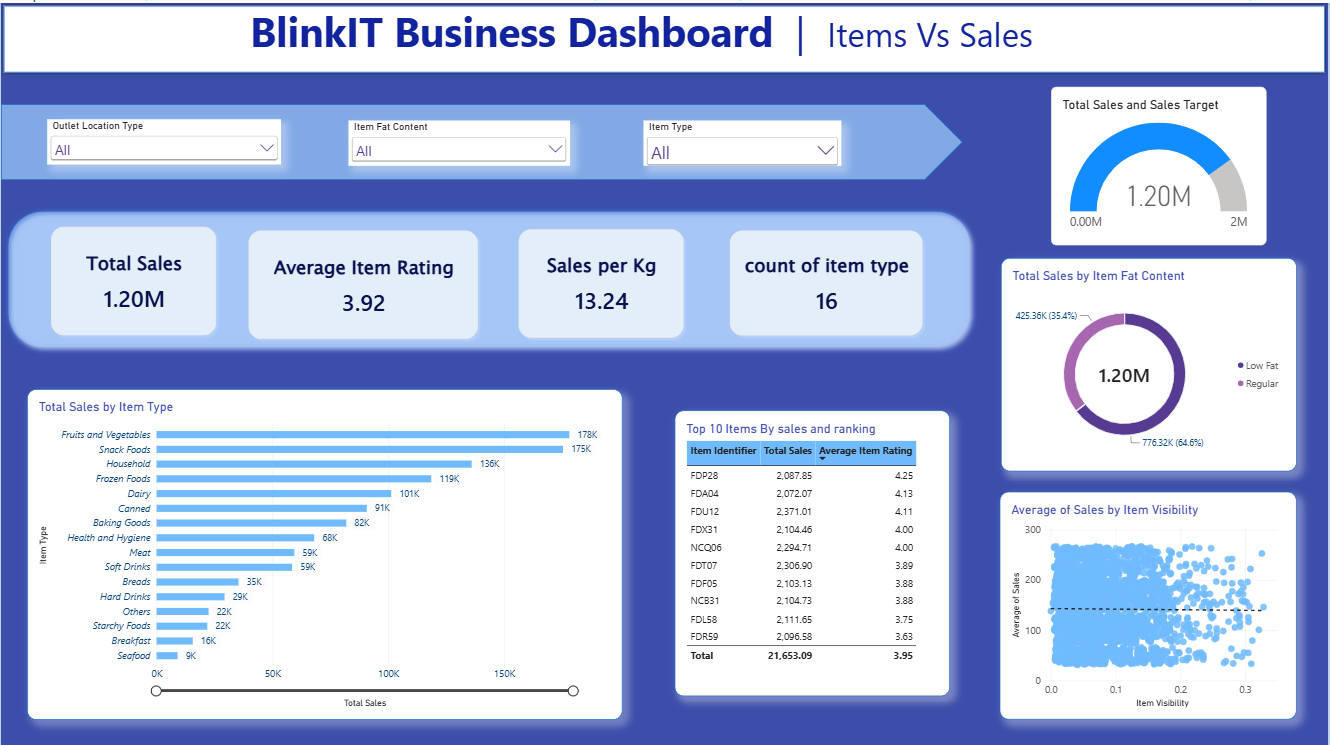

The dashboard page shown, as its layout file describes it:
{"tool":"powerbi","page":{"name":"Items vs total sales","canvas":[1920,1080],"ordinal":0},"visuals":[{"type":"shape","box":[0,147.1,1392.3,109.6],"z":0},{"type":"shape","box":[0,0,1920.5,104.5],"z":1000},{"type":"shape","box":[0,292.2,1413.7,217.6],"z":2000},{"type":"cardVisual","fields":{"Data":["Measure.Total Sales"]},"box":[66.7,317.6,250,168.2],"z":3000},{"type":"cardVisual","fields":{"Data":["Measure.Sales per Kg"]},"box":[743.1,321.6,250,168.2],"z":4000},{"type":"cardVisual","fields":{"Data":["Measure.Average Item Ranking"]},"box":[352.9,323.5,343.2,168.2],"z":5000},{"type":"clusteredBarChart","fields":{"Category":["Items.Item Type"],"Y":["Measure.Total Sales"]},"box":[38.6,559.1,861.9,478.6],"z":6000},{"type":"donutChart","fields":{"Category":["Items Content.Item Fat Content"],"Y":["Measure.Total Sales"]},"box":[1447.1,368.6,428.2,309],"z":7000},{"type":"scatterChart","fields":{"X":["BlinkIT Grocery Data.Item Visibility"],"Y":["Avg(BlinkIT Grocery Data.Sales)"]},"box":[1445.1,707.8,429.4,329.4],"z":8000},{"type":"tableEx","title":"Top 10 Items By sales and ranking","fields":{"Values":["BlinkIT Grocery Data.Item Identifier","Measure.Total Sales","Measure.Average Item Ranking"]},"box":[974.5,590.2,398,413.7],"z":9000},{"type":"slicer","fields":{"Values":["Outlet Location.Outlet Location Type"]},"box":[66.7,168.6,338.6,65.9],"z":10000},{"type":"slicer","fields":{"Values":["Items.Item Type"]},"box":[929.4,170.6,286.4,65.9],"z":11000},{"type":"slicer","fields":{"Values":["Items Content.Item Fat Content"]},"box":[503.9,170.6,320.5,65.9],"z":12000},{"type":"cardVisual","fields":{"Data":["Measure.count of item type"]},"box":[1049,323.5,290.9,163.6],"z":13000},{"type":"gauge","fields":{"MaxValue":["Measure.Sales Target"],"Y":["Measure.Total Sales"]},"box":[1519.6,121.6,311.8,229.4],"z":14000},{"type":"textbox","box":[0,0,1854.5,88.6],"z":15000}]}

Visuals, with their boxes in screenshot pixels (x1, y1, x2, y2), scaled from the page's 1920x1080 canvas onto the 1330x745 screenshot:
shape: 0:101:964:177
shape: 0:0:1329:72
shape: 0:202:979:352
cardVisual - Measure.Total Sales: 46:219:219:335
cardVisual - Measure.Sales per Kg: 515:222:688:338
cardVisual - Measure.Average Item Ranking: 244:223:482:339
clusteredBarChart - Items.Item Type x Measure.Total Sales: 27:386:624:716
donutChart - Items Content.Item Fat Content x Measure.Total Sales: 1002:254:1299:467
scatterChart - BlinkIT Grocery Data.Item Visibility x Avg(BlinkIT Grocery Data.Sales): 1001:488:1298:715
"Top 10 Items By sales and ranking" tableEx: 675:407:951:693
slicer - Outlet Location.Outlet Location Type: 46:116:281:162
slicer - Items.Item Type: 644:118:842:163
slicer - Items Content.Item Fat Content: 349:118:571:163
cardVisual - Measure.count of item type: 727:223:928:336
gauge - Measure.Sales Target x Measure.Total Sales: 1053:84:1269:242
textbox: 0:0:1285:61
